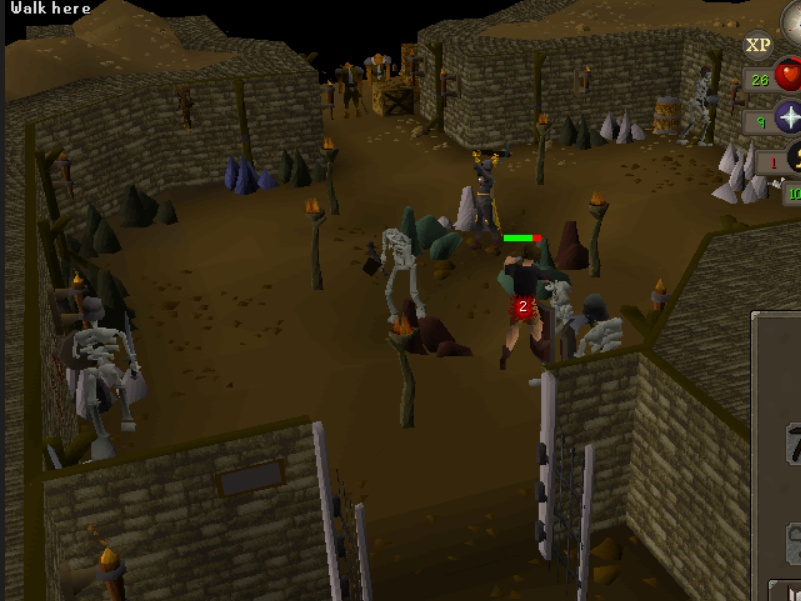adamant: (496, 234, 577, 295), (396, 200, 468, 264)
coal: (56, 260, 142, 336), (54, 201, 127, 257), (117, 179, 182, 230), (274, 142, 331, 192), (554, 109, 604, 155)
iron: (394, 292, 480, 366), (549, 215, 595, 270)
mithril: (218, 153, 280, 200)
silver: (712, 139, 779, 208), (452, 182, 483, 231)
tin: (62, 352, 157, 413), (600, 106, 652, 151)
